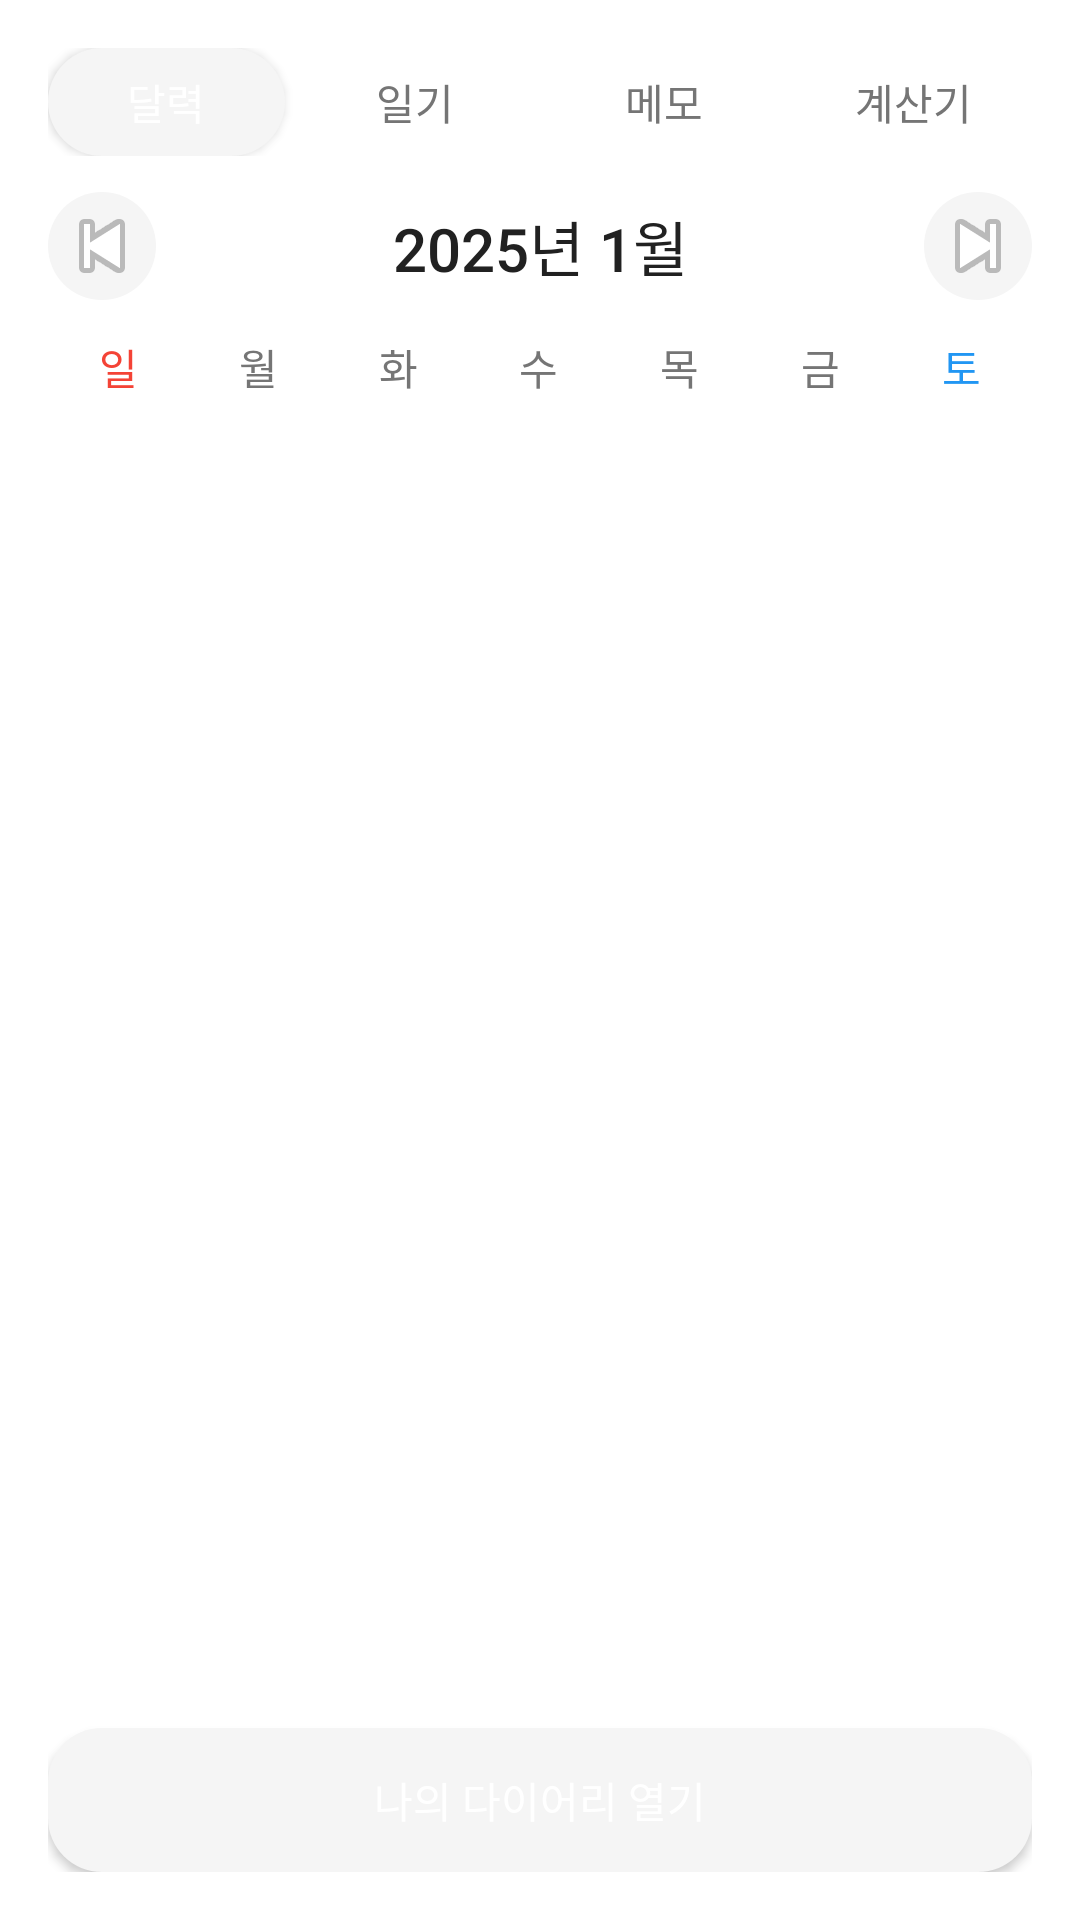

Named icons in this screenshot (1080 × 1920) and their centers, (x,y):
다음 달: (978,246)
이전 달: (102,246)
